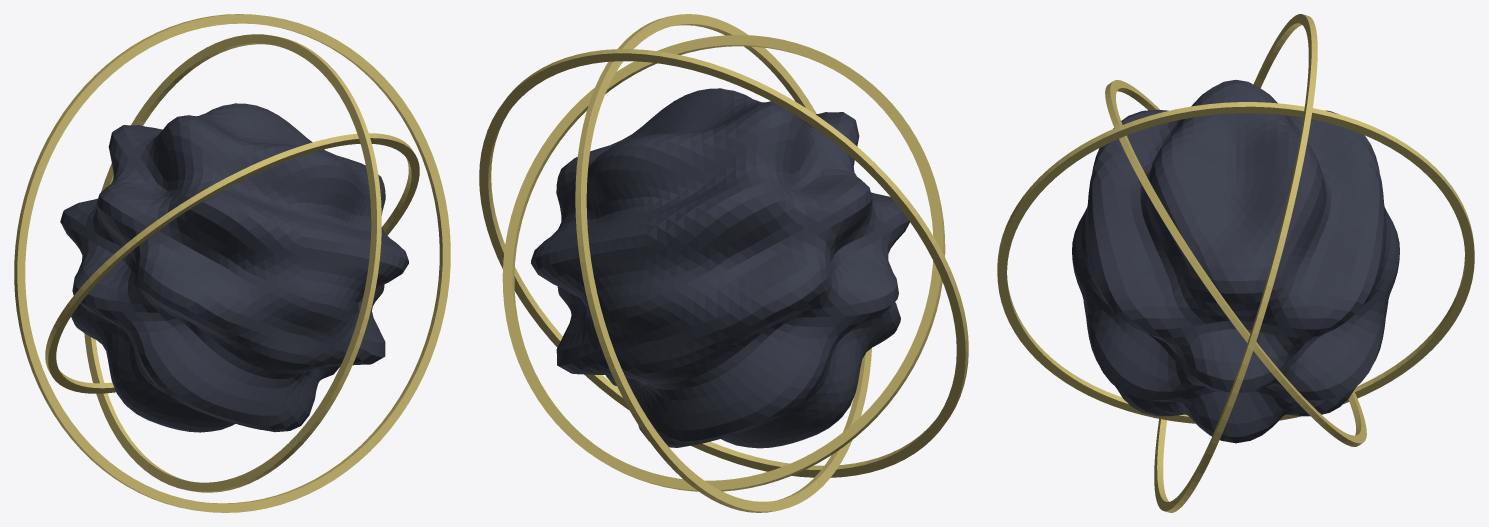
The model's file is gpu-artifact.glb.
3 views of the same model, side by side, from view 1: azimuth 30°, elevation 25°; view 2: azimuth 150°, elevation 25°; view 3: azimuth 270°, elevation 25° (orthographic). The views are drawn at different scales.
Parts seen in each view (by area): view 1: robots-txt-auditor_obsidian_core, robots-txt-auditor_orbital_ring_2, robots-txt-auditor_orbital_ring_1, robots-txt-auditor_orbital_ring_0; view 2: robots-txt-auditor_obsidian_core, robots-txt-auditor_orbital_ring_0, robots-txt-auditor_orbital_ring_2, robots-txt-auditor_orbital_ring_1; view 3: robots-txt-auditor_obsidian_core, robots-txt-auditor_orbital_ring_1, robots-txt-auditor_orbital_ring_2, robots-txt-auditor_orbital_ring_0.
Boxes of the visible parts, box(x1,y1,x2,y2) form: robots-txt-auditor_obsidian_core: box(60, 103, 408, 432); robots-txt-auditor_orbital_ring_2: box(14, 14, 450, 512); robots-txt-auditor_orbital_ring_1: box(84, 34, 381, 492); robots-txt-auditor_orbital_ring_0: box(45, 133, 419, 393); robots-txt-auditor_obsidian_core: box(531, 88, 909, 448); robots-txt-auditor_orbital_ring_0: box(502, 35, 945, 491); robots-txt-auditor_orbital_ring_2: box(479, 49, 968, 477); robots-txt-auditor_orbital_ring_1: box(575, 14, 871, 512); robots-txt-auditor_obsidian_core: box(1072, 80, 1399, 443); robots-txt-auditor_orbital_ring_1: box(997, 102, 1474, 423); robots-txt-auditor_orbital_ring_2: box(1154, 14, 1317, 512); robots-txt-auditor_orbital_ring_0: box(1105, 80, 1366, 446).
Size of the model in its own units: 3.24 by 3.1 by 3.
